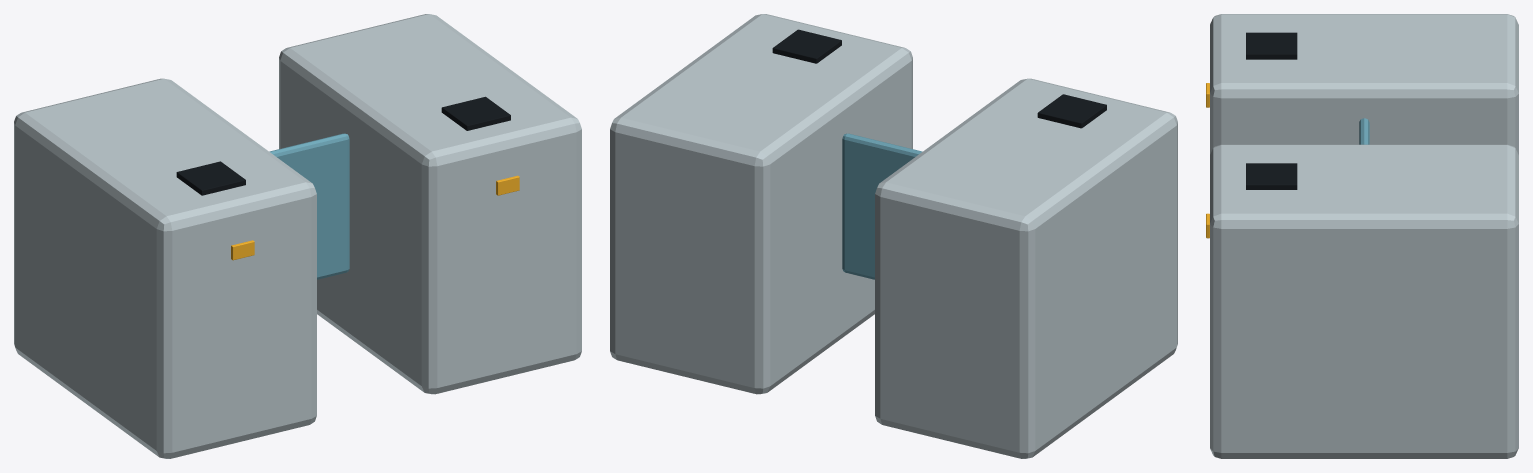
3 views of the same model, side by side, from view 1: azimuth 30°, elevation 25°; view 2: azimuth 150°, elevation 25°; view 3: azimuth 270°, elevation 25° (orthographic).
Parts seen in each view (by area): view 1: CABINET.001, CABINET, FLAP, READER, READER.001; view 2: CABINET.001, CABINET, FLAP, READER, READER.001; view 3: CABINET, CABINET.001, READER, READER.001.
Boxes of the visible parts, bbox=[...] form: CABINET.001: bbox=[14, 78, 316, 458]; CABINET: bbox=[279, 14, 581, 394]; FLAP: bbox=[269, 133, 349, 279]; READER: bbox=[176, 161, 245, 195]; READER.001: bbox=[441, 96, 510, 130]; CABINET.001: bbox=[875, 78, 1177, 458]; CABINET: bbox=[610, 14, 912, 394]; FLAP: bbox=[842, 133, 922, 279]; READER: bbox=[1037, 94, 1106, 128]; READER.001: bbox=[772, 29, 841, 63]; CABINET: bbox=[1210, 144, 1518, 458]; CABINET.001: bbox=[1210, 14, 1518, 154]; READER: bbox=[1246, 32, 1297, 59]; READER.001: bbox=[1246, 163, 1297, 189].
Bounding box in the file's own units: 1.92 × 1.07 × 1.21.
